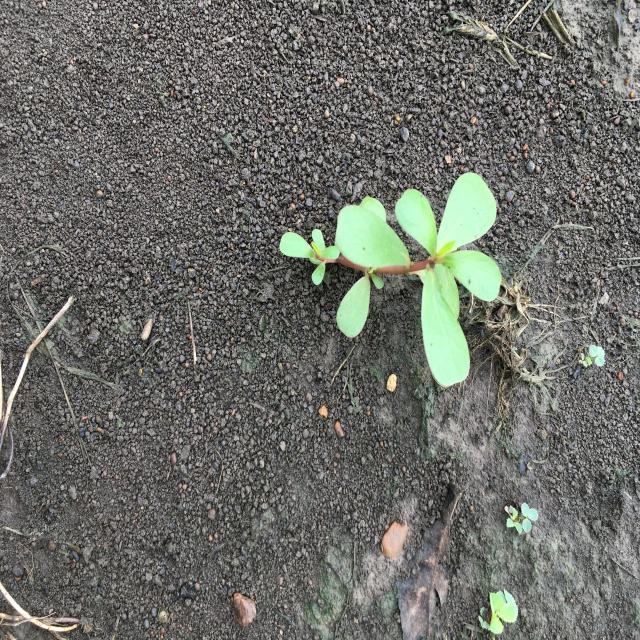Purslane: (279, 172, 501, 387)
